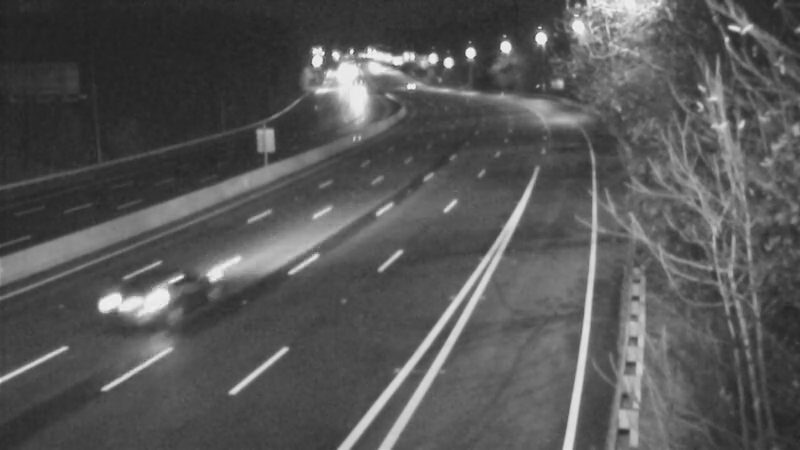vehicle: (107, 256, 187, 336), (387, 60, 437, 110), (327, 74, 377, 124)
